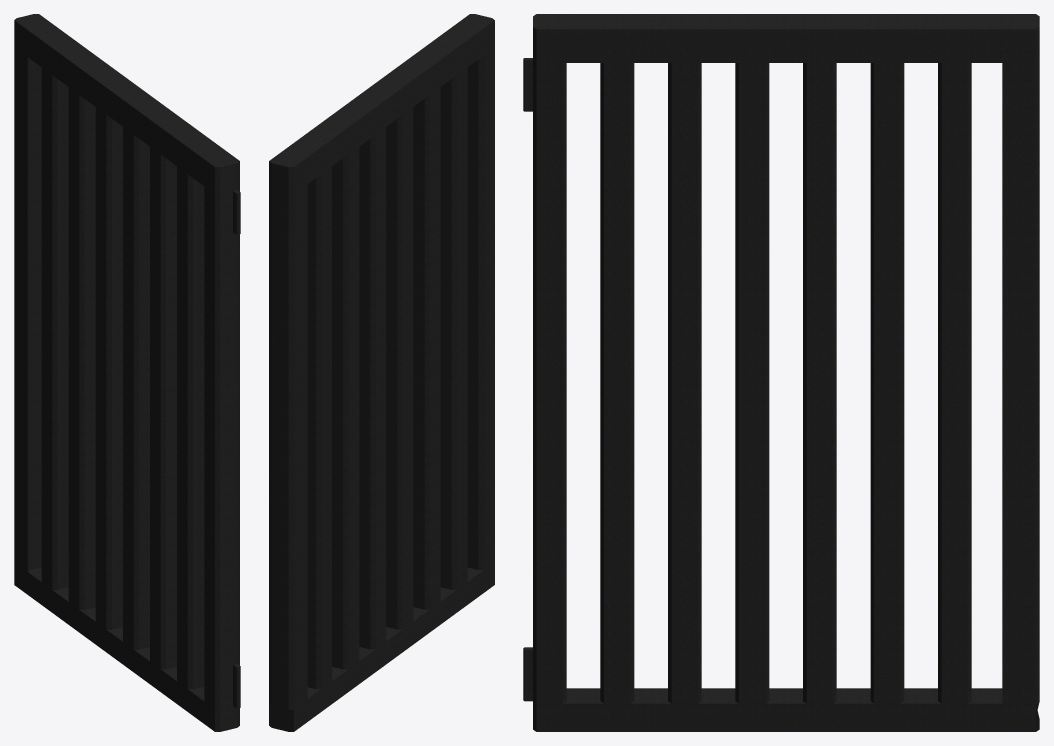
The model's file is Gate_side1.FBX.
The picture shows the model from 3 angles, left to right: view 1: azimuth 30°, elevation 25°; view 2: azimuth 150°, elevation 25°; view 3: azimuth 270°, elevation 25°; orthographic projection. The views are drawn at different scales.
Visible parts, largest first — view 1: Box01; view 2: Box01; view 3: Box01.
Part boxes in pixels (x1,y1,x2,y2): Box01: (14, 14, 240, 731); Box01: (269, 14, 494, 731); Box01: (523, 14, 1039, 731).
Bounding box in the file's own units: 2.64 × 57.11 × 38.03.
1 material, 1 textured.
